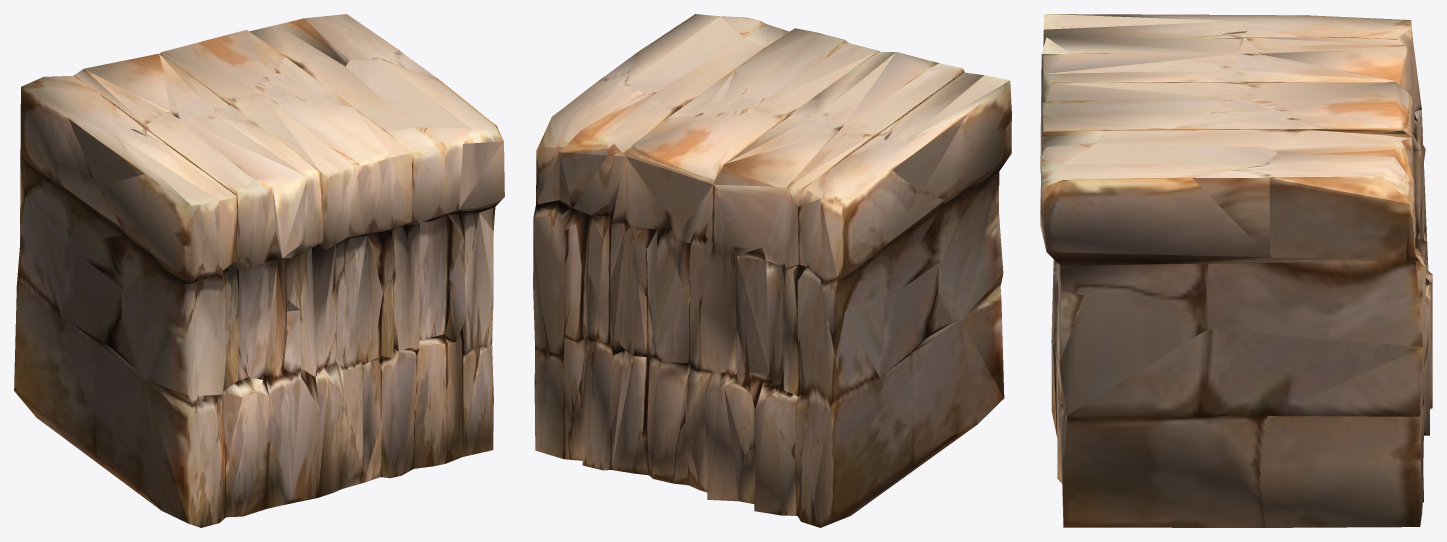
File: foundation.glb
The picture shows the model from 3 angles, left to right: view 1: azimuth 30°, elevation 25°; view 2: azimuth 150°, elevation 25°; view 3: azimuth 270°, elevation 25°; orthographic projection. The views are drawn at different scales.
Visible parts, largest first — view 1: TripoFoundation_Mesh; view 2: TripoFoundation_Mesh; view 3: TripoFoundation_Mesh.
Part boxes in pixels (<box>): TripoFoundation_Mesh: <box>14,14,504,527</box>; TripoFoundation_Mesh: <box>533,14,1011,527</box>; TripoFoundation_Mesh: <box>1040,14,1432,527</box>.
Bounding box in the file's own units: 1 × 1 × 1.
Materials: 1 (1 with a texture image).
